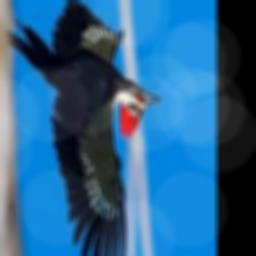Woodpecker: (6, 0, 160, 256)
